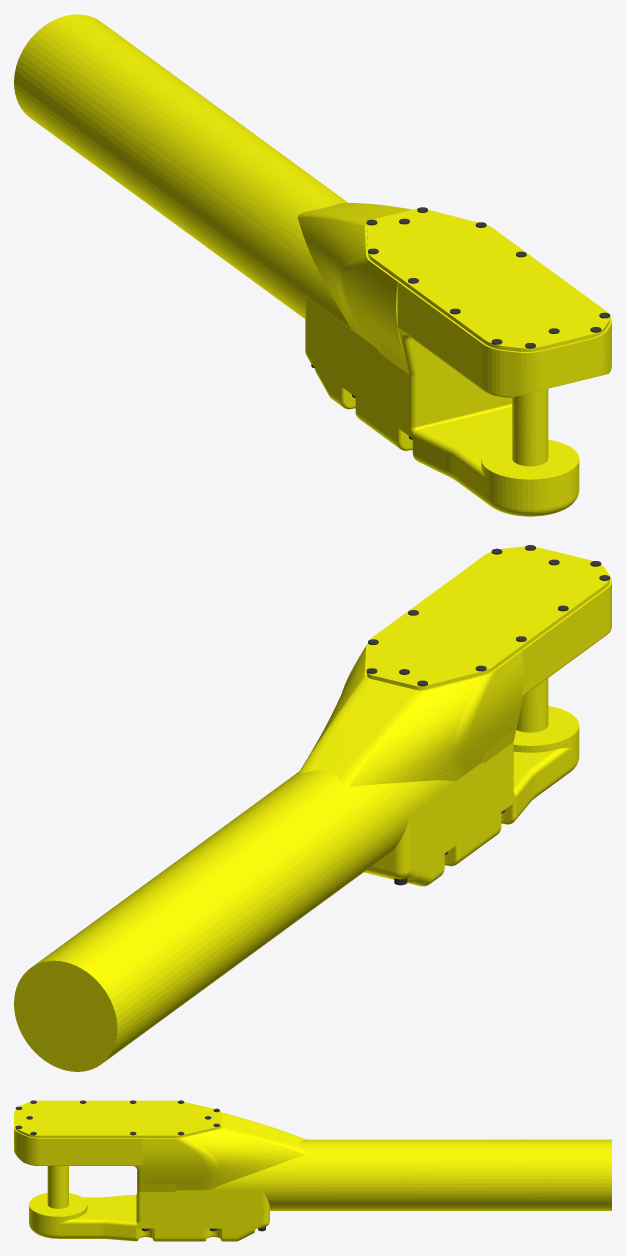
3 views of the same model, one above another, from view 1: azimuth 30°, elevation 25°; view 2: azimuth 150°, elevation 25°; view 3: azimuth 270°, elevation 25° (orthographic). The views are drawn at different scales.
Parts seen in each view (by area): view 1: node; view 2: node; view 3: node.
Boxes of the visible parts, x1=… form: node: x1=14, y1=14, x2=611, y2=516; node: x1=14, y1=545, x2=611, y2=1071; node: x1=14, y1=1100, x2=611, y2=1241.
Size of the model in its own units: 123 by 172 by 838.
